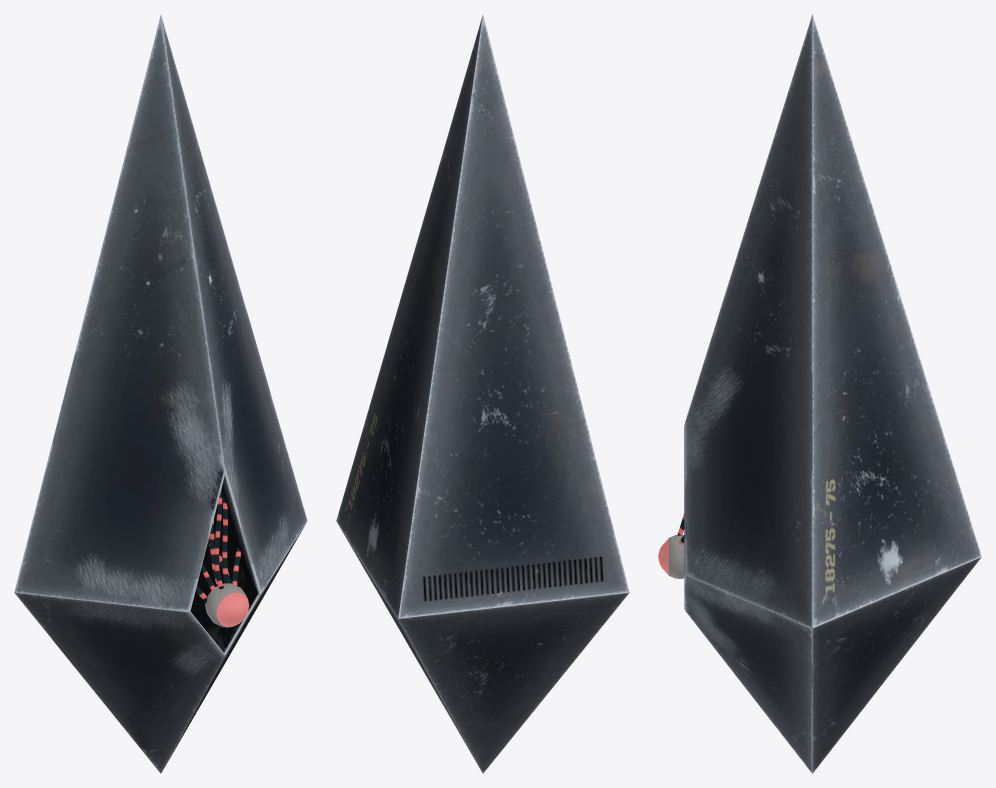
Rendered from alien_beacon.glb.
The picture shows the model from 3 angles, left to right: view 1: azimuth 30°, elevation 25°; view 2: azimuth 150°, elevation 25°; view 3: azimuth 270°, elevation 25°; orthographic projection.
Visible parts, largest first — view 1: Cube_beacon_0, Cylinder.002_cables_0, Sphere_eye_0; view 2: Cube_beacon_0; view 3: Cube_beacon_0, Sphere_eye_0.
Part boxes in pixels (box(x1,y1,x2,y2)): Cube_beacon_0: box(14, 15, 307, 773); Cylinder.002_cables_0: box(195, 488, 241, 602); Sphere_eye_0: box(205, 583, 249, 627); Cube_beacon_0: box(336, 15, 629, 773); Cube_beacon_0: box(684, 14, 981, 773); Sphere_eye_0: box(658, 535, 684, 578).
Size of the model in its own units: 2.83 by 7 by 2.7.
3 materials, 3 textured.
